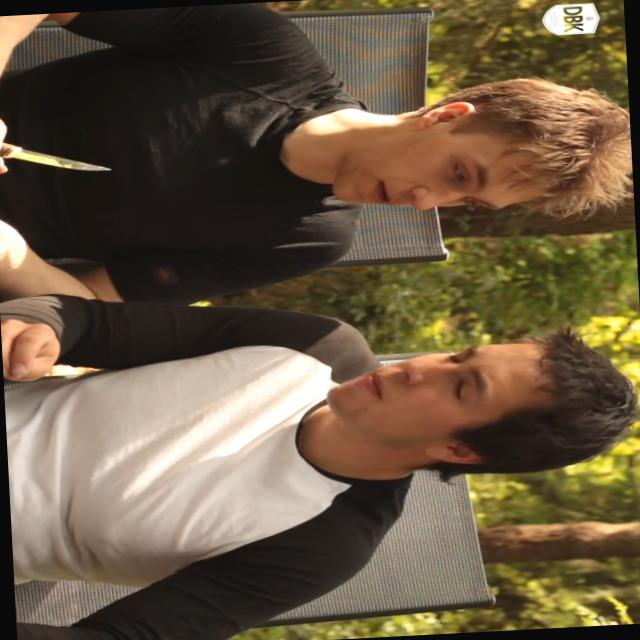knife: (0, 115, 130, 191)
